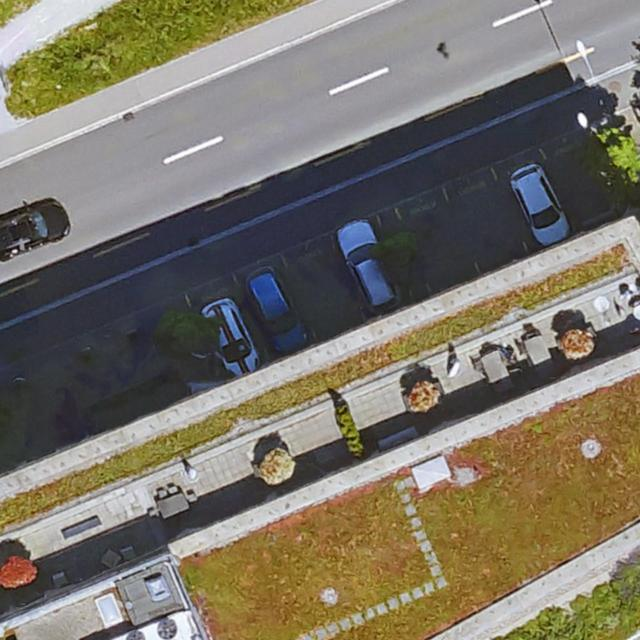tree: (378, 230, 425, 290), (159, 309, 220, 350)
